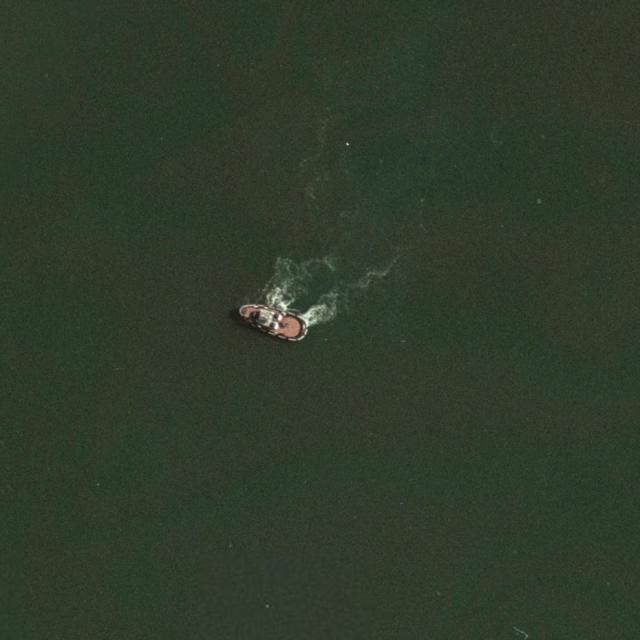Hovercraft: (236, 298, 312, 345)
